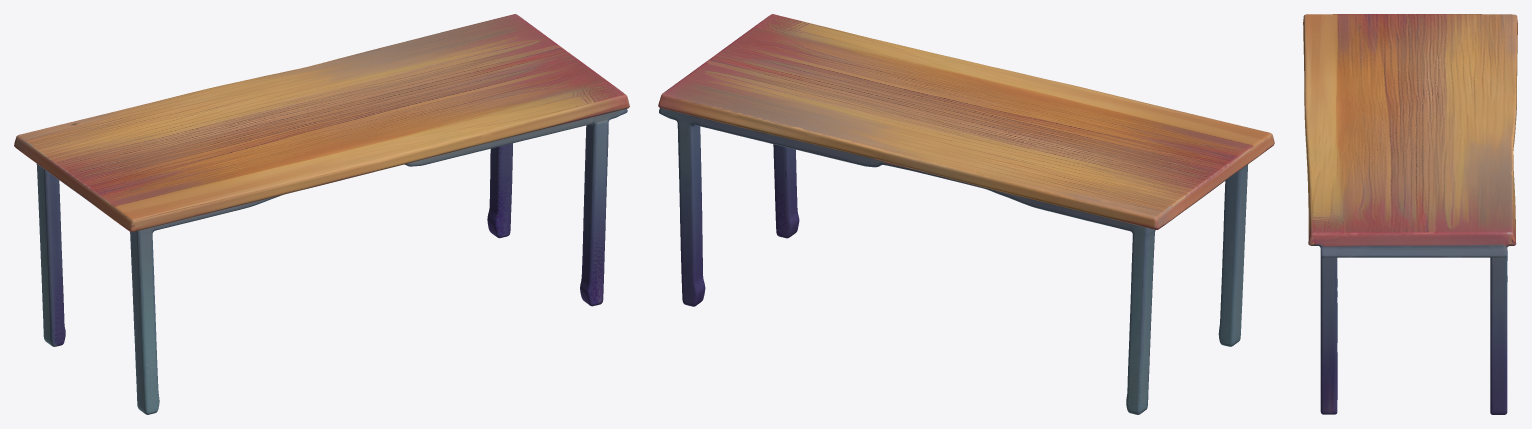
File: desk_2.fbx
3 views of the same model, side by side, from view 1: azimuth 30°, elevation 25°; view 2: azimuth 150°, elevation 25°; view 3: azimuth 270°, elevation 25° (orthographic). The views are drawn at different scales.
Visible parts, largest first — view 1: texture_v100; view 2: texture_v100; view 3: texture_v100.
Part boxes in pixels (x1,y1,x2,y2): texture_v100: [14, 14, 629, 414]; texture_v100: [658, 14, 1274, 414]; texture_v100: [1303, 14, 1517, 414].
Size of the model in its own units: 106 by 41.85 by 42.66.
1 material, 1 textured.
